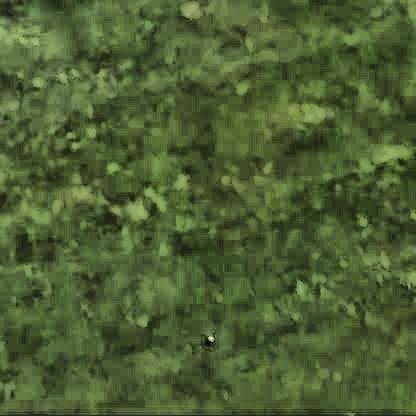golfball: (202, 332, 212, 342)
